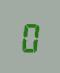zero: (19, 19, 38, 53)
